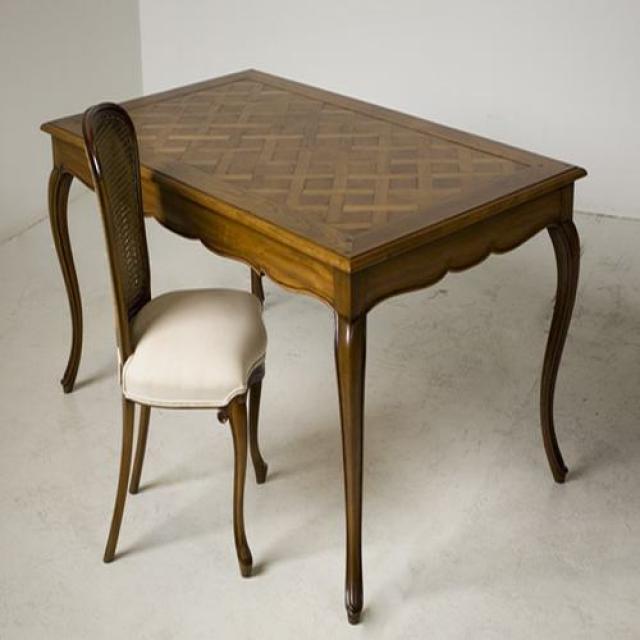table: (118, 69, 585, 627), (38, 111, 97, 396)
